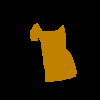maglia: (29, 22, 76, 82)
